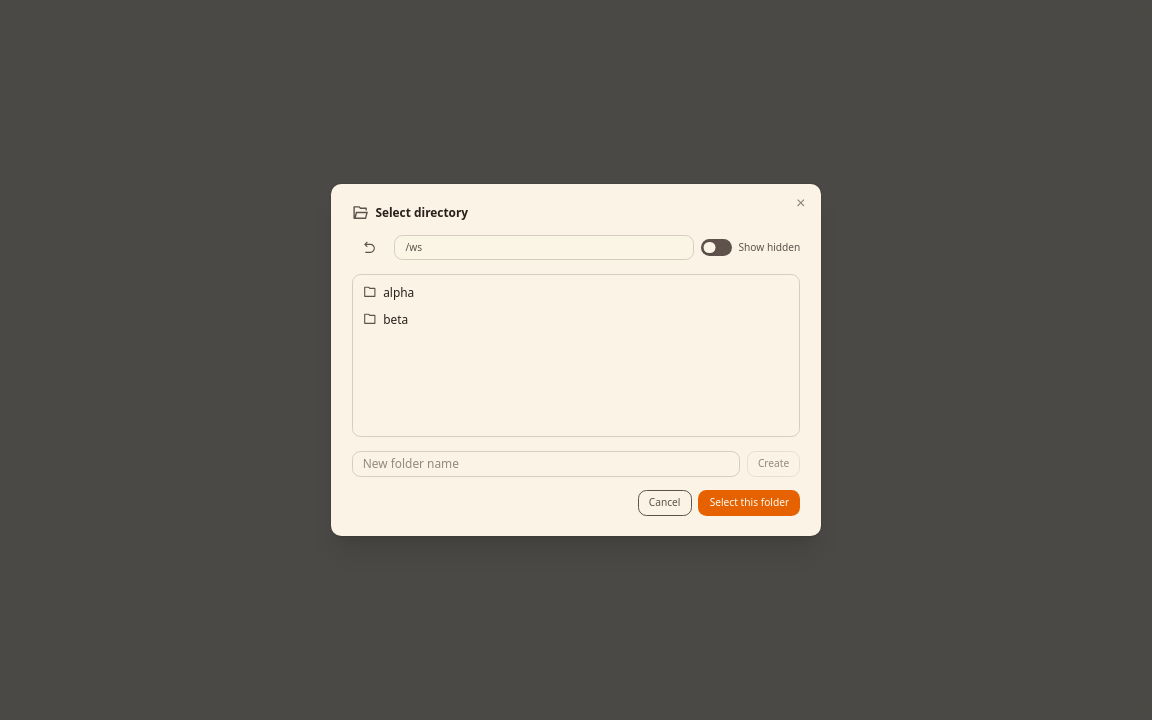
Test: DirectoryPickerDialog (ADR-075) › навигация по подкаталогам обновляет путь
This screenshot has width=1152, height=720.
Click the button "alpha": (399, 292) [356,278,796,306]
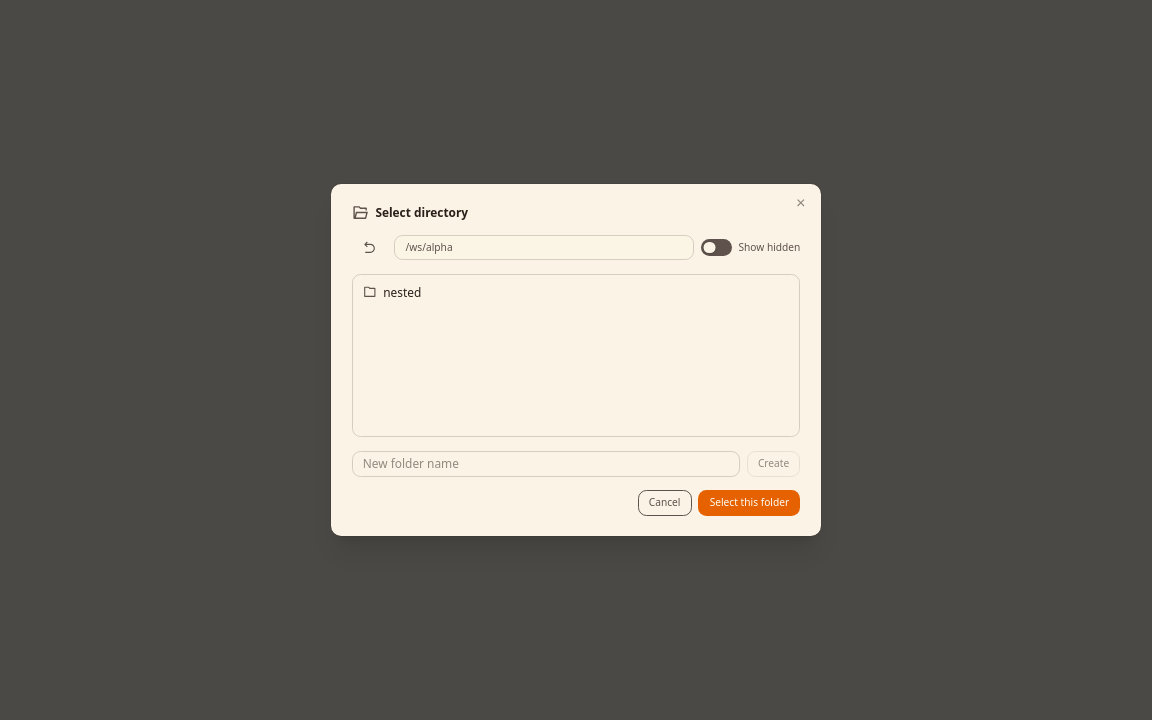
Expected: the text "/ws/alpha" is shown, [394,235,694,260]
